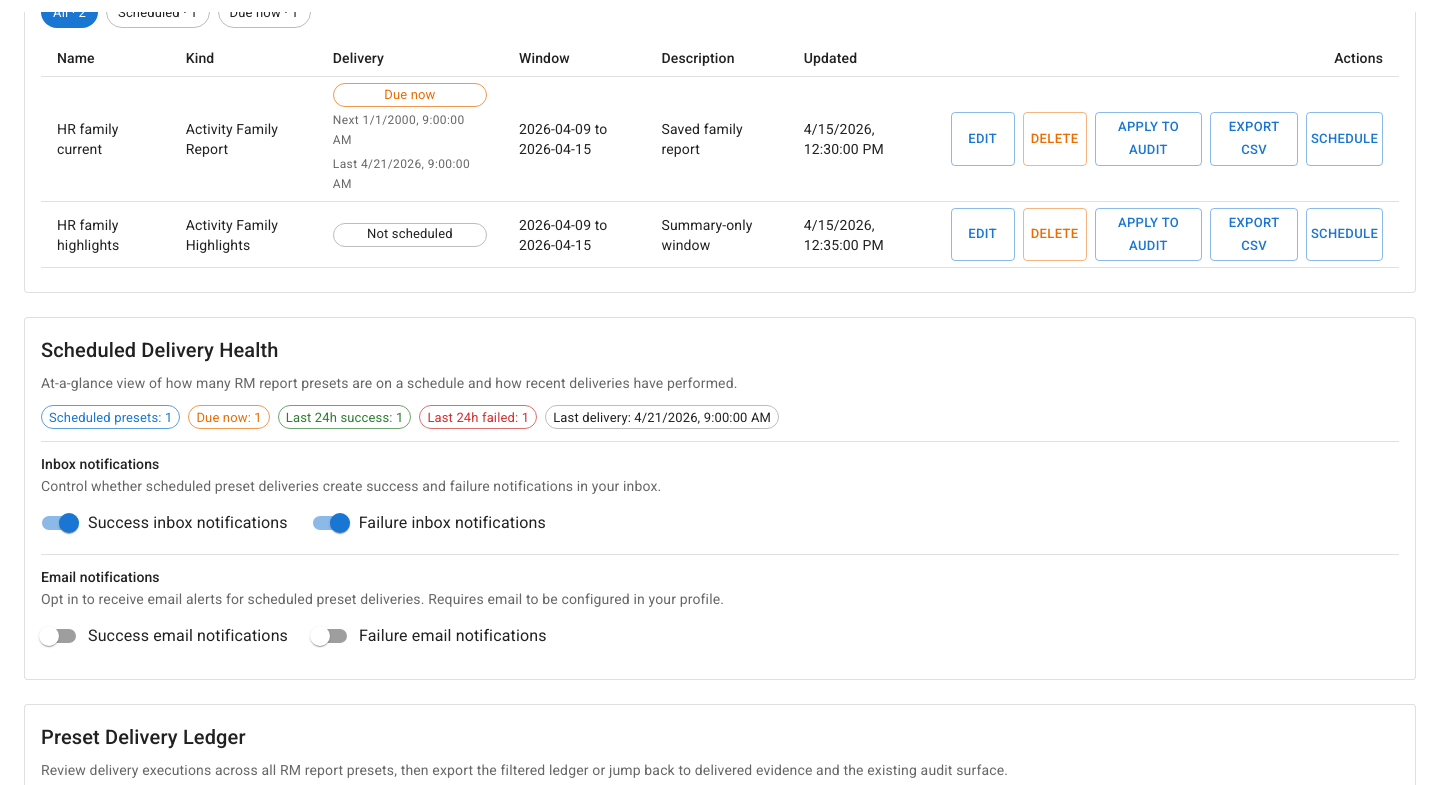
it: RecordsManagementPage › filters the preset delivery ledger from scheduled delivery health failure drilldowns
(page scrolled)
Click the button "Last 24h failed: 1".
click(478, 417)  # box [419,405,537,429]
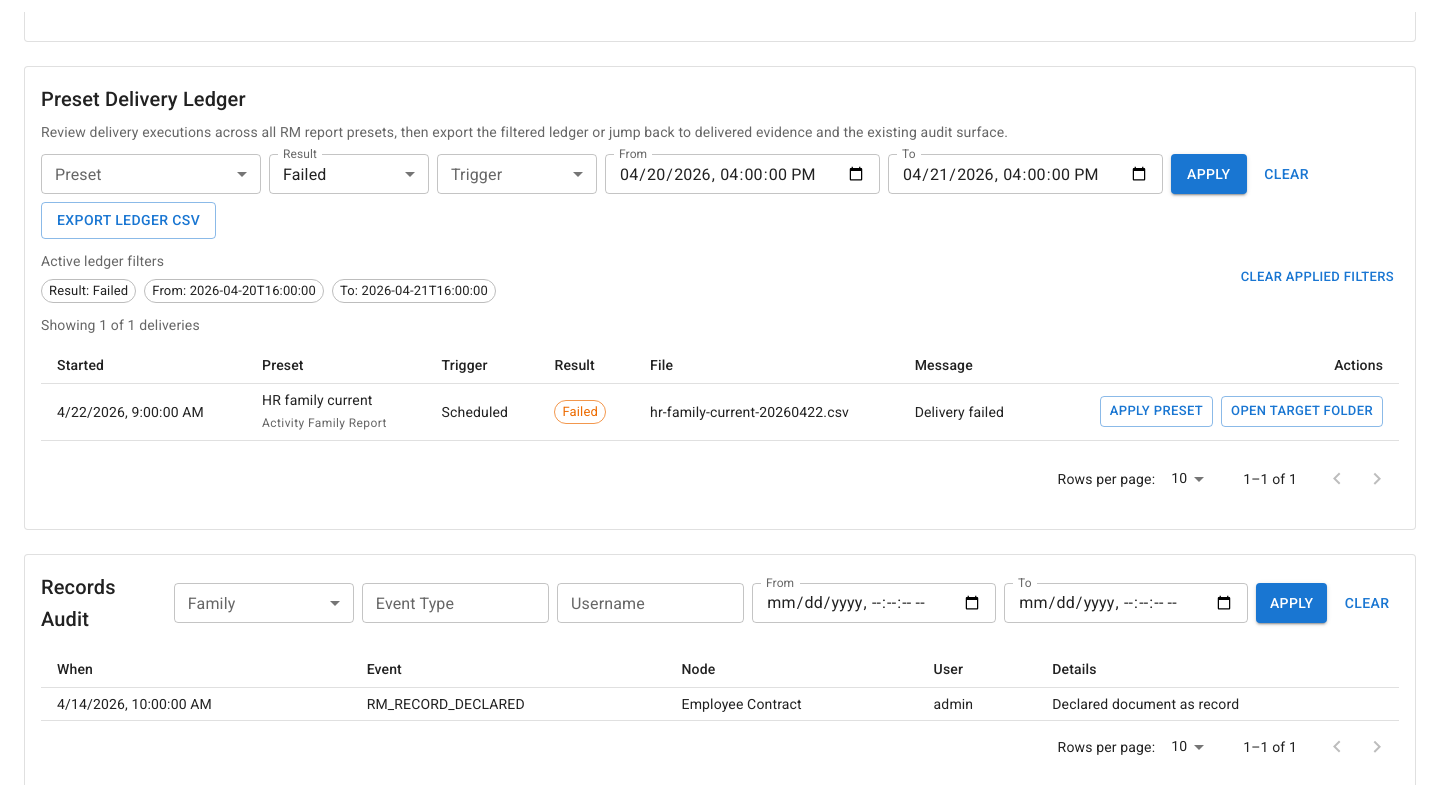
Expected: the text "Active ledger filters" is shown, [41,253,164,269]
Expected: the text "Result: Failed" is shown, [49,283,128,298]
Expected: the text "From: 2026-04-20T16:00:00" is shown, [145,281,323,301]
